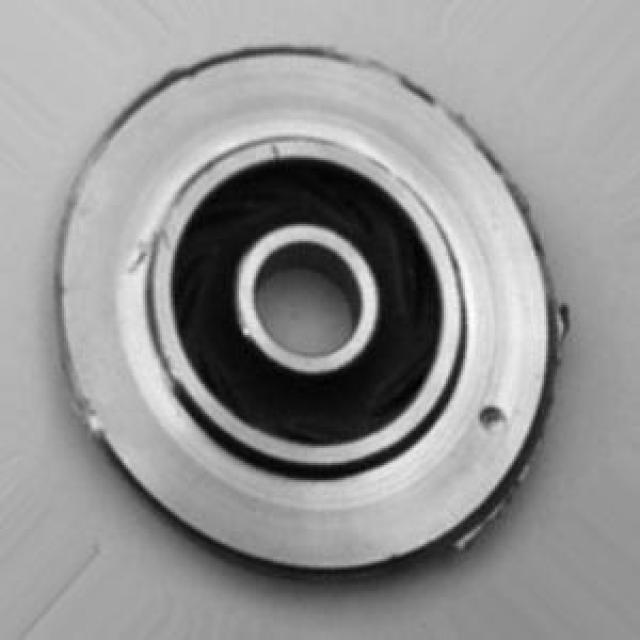Defect: (480, 398, 510, 437)
